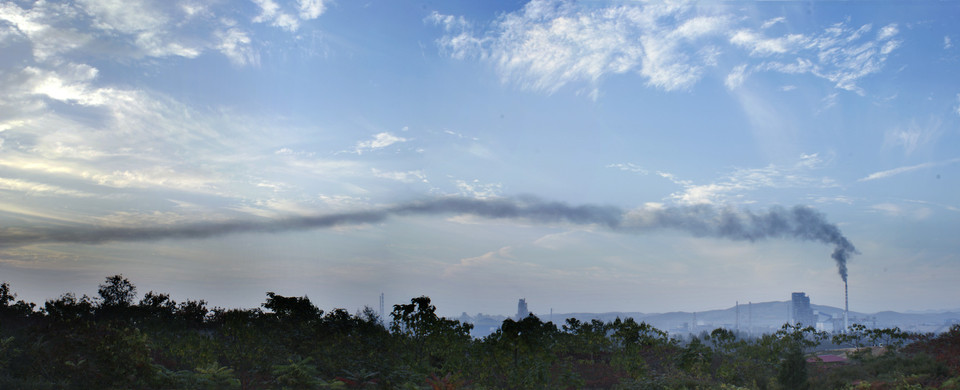dust: (754, 193, 862, 281)
